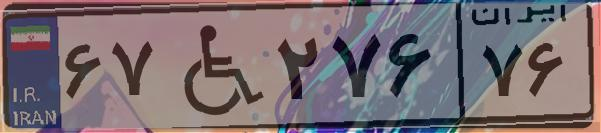2: (270, 28, 330, 110)
6: (385, 28, 445, 110), (57, 26, 110, 100), (525, 38, 570, 115)
7: (330, 28, 385, 110), (475, 38, 525, 113), (110, 28, 158, 98)
ژ (معلولین و جانبازان): (158, 12, 270, 120)
